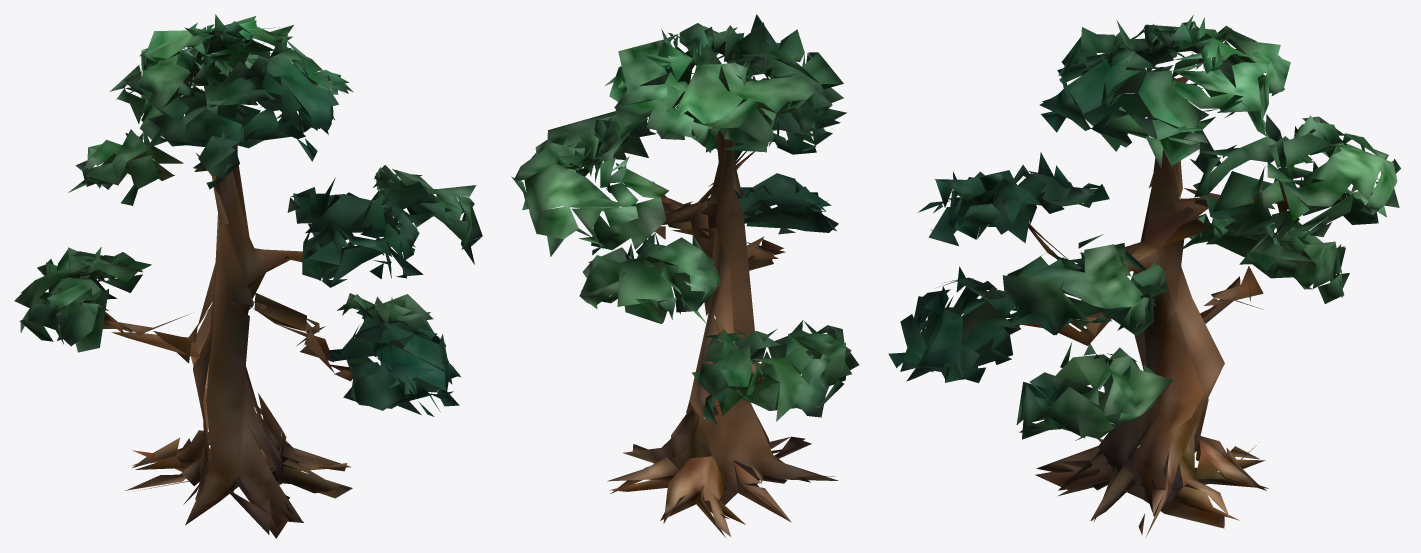
The model's file is canopy.glb.
3 views of the same model, side by side, from view 1: azimuth 30°, elevation 25°; view 2: azimuth 150°, elevation 25°; view 3: azimuth 270°, elevation 25° (orthographic). The views are drawn at different scales.
Visible parts, largest first — view 1: Living mountain tree from Studio; view 2: Living mountain tree from Studio; view 3: Living mountain tree from Studio.
Part boxes in pixels (x1,y1,x2,y2): Living mountain tree from Studio: (14, 14, 482, 538); Living mountain tree from Studio: (511, 14, 859, 537); Living mountain tree from Studio: (888, 15, 1400, 536).
Size of the model in its own units: 3.81 by 4.61 by 4.6.
Materials: 1 (1 with a texture image).
